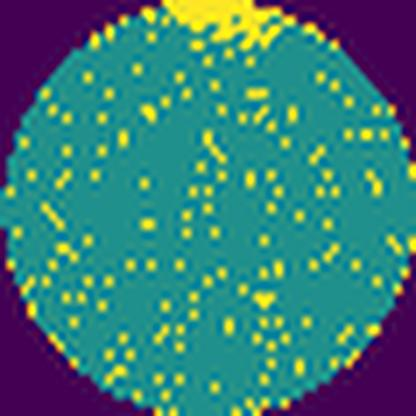Edge-Loc: (158, 0, 279, 47)
